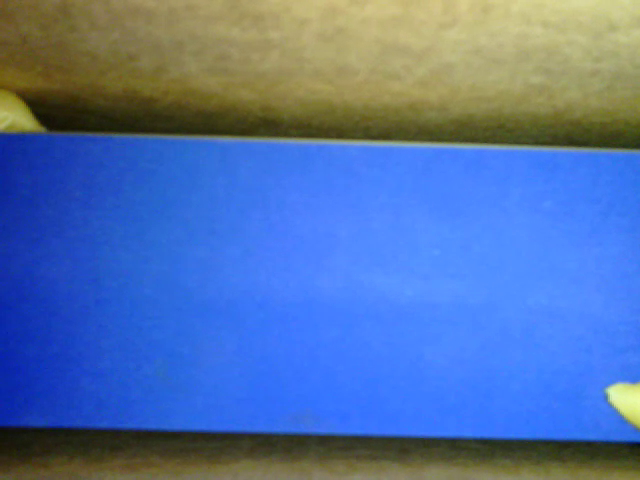shell: (2, 91, 50, 134), (602, 377, 637, 430)
